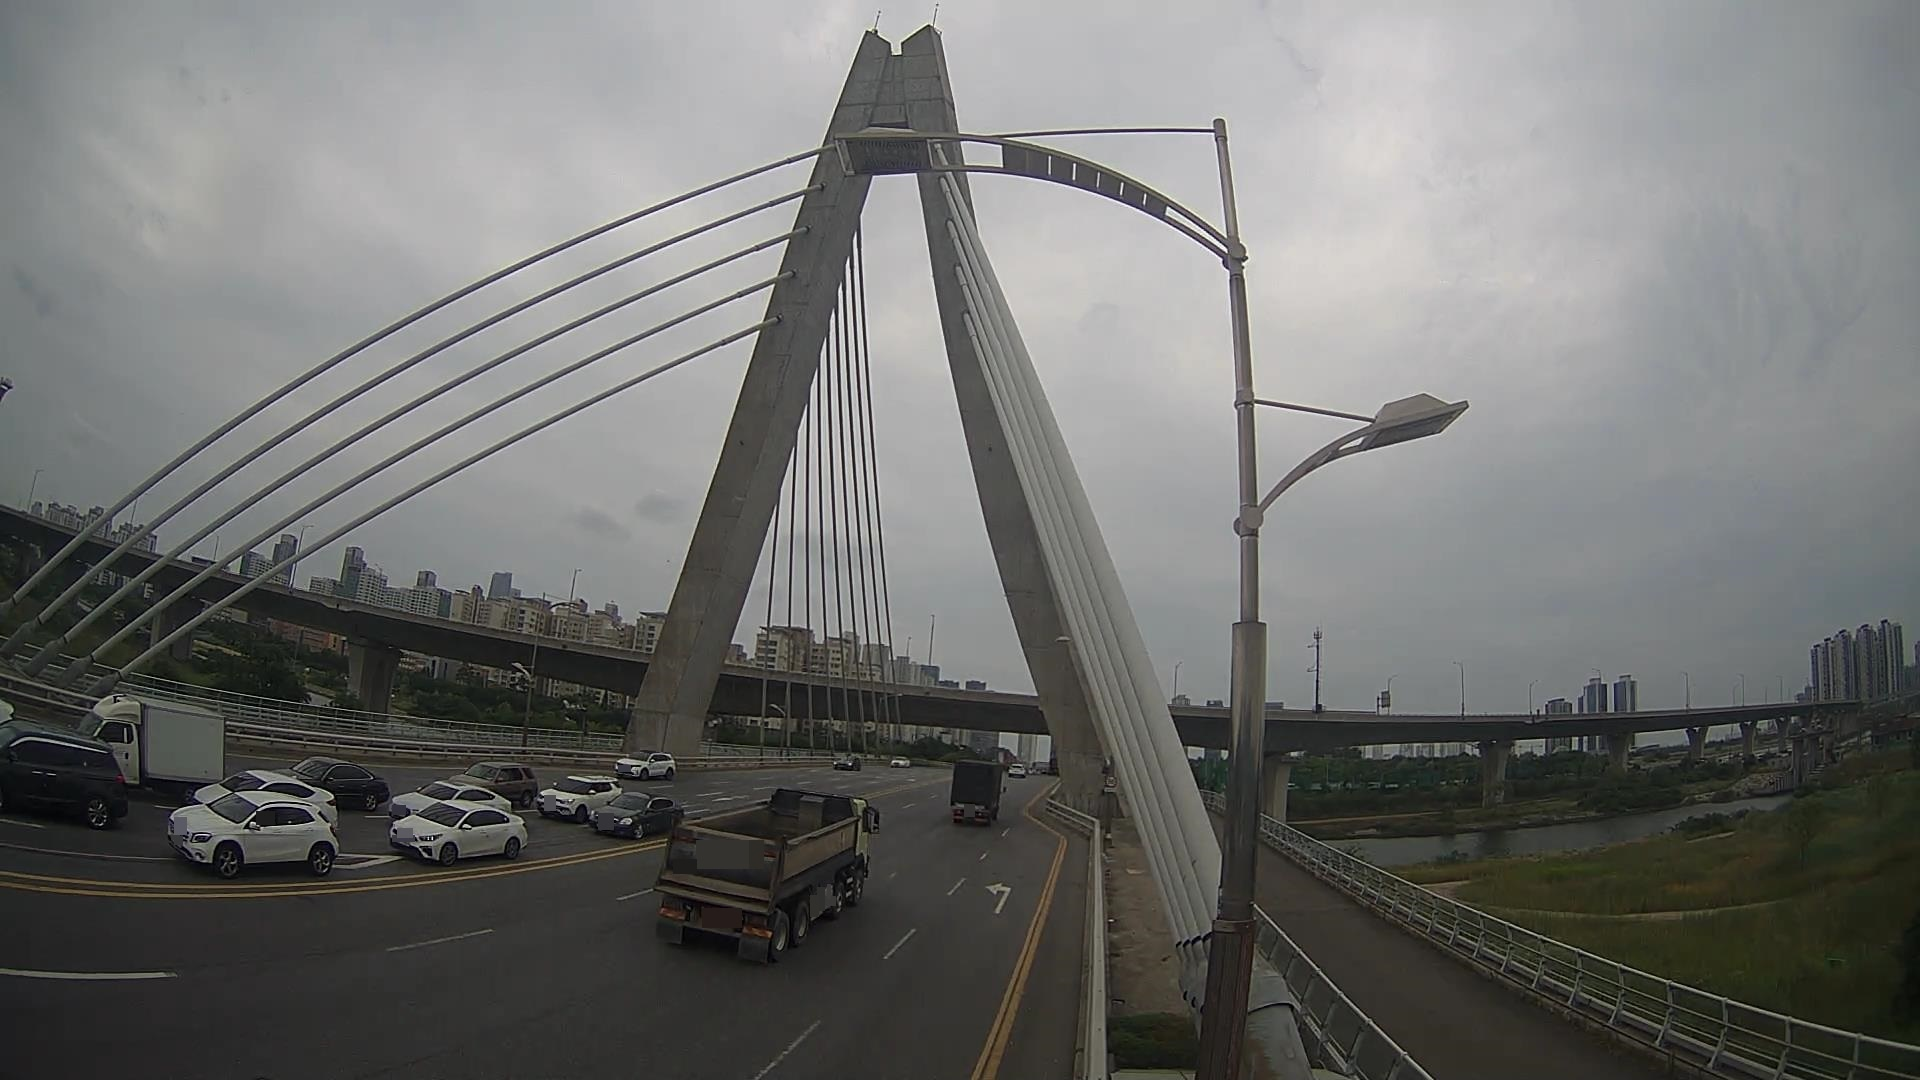정상차량: (654, 789, 880, 963)
